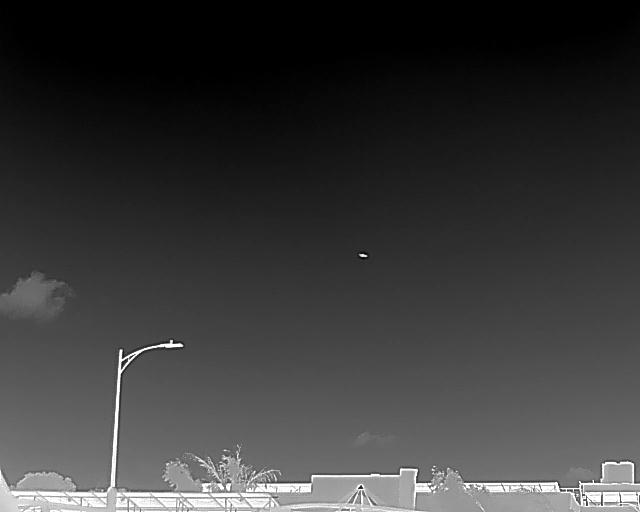fpv-drone: (358, 252, 368, 258)
